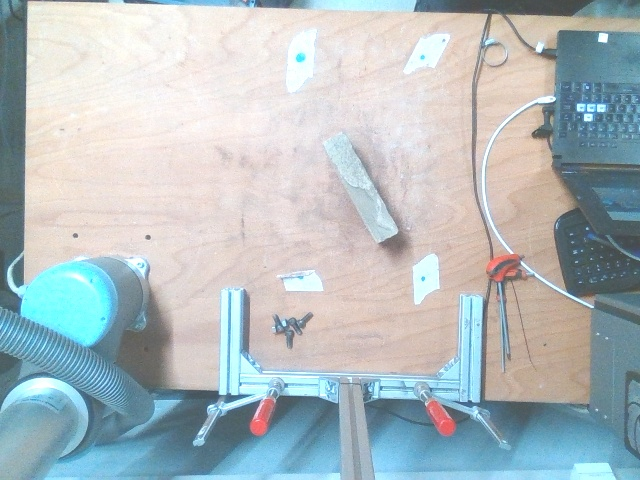brick-side: (324, 131, 398, 243)
